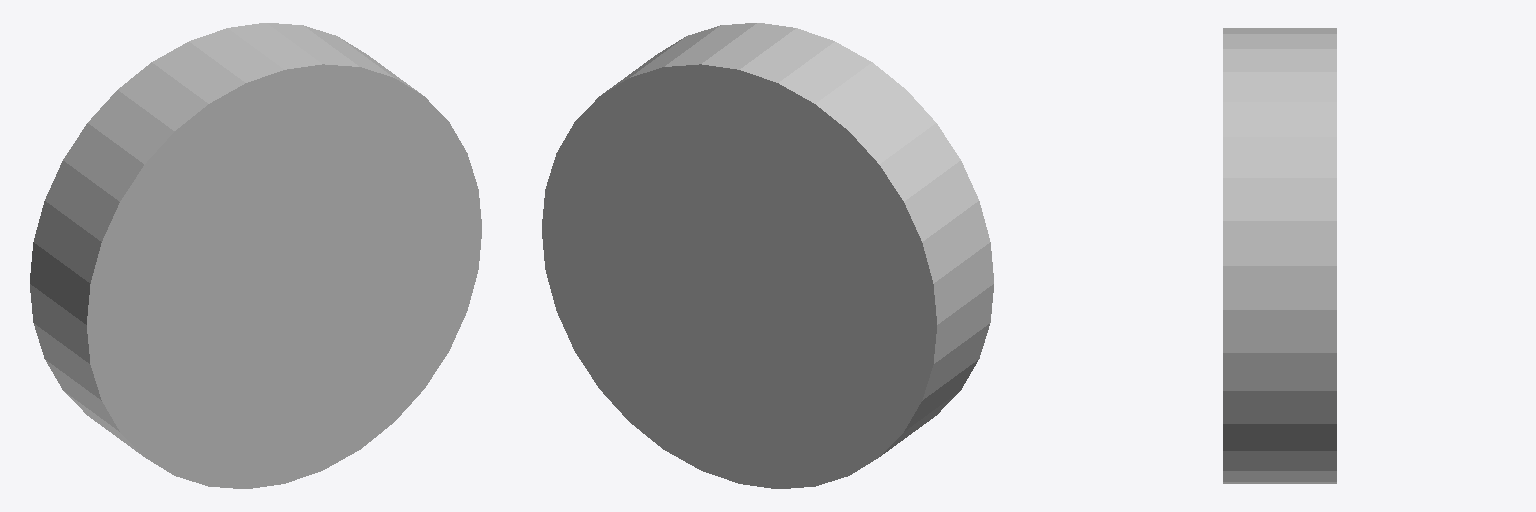
Rendered from speed_up.obj.
3 renders of one model, left to right at view 1: azimuth 30°, elevation 25°; view 2: azimuth 150°, elevation 25°; view 3: azimuth 270°, elevation 25°, orthographic.
Parts seen in each view (by area): view 1: Circle; view 2: Circle; view 3: Circle.
Part boxes in pixels (bbox=[...]): Circle: bbox=[30, 23, 481, 488]; Circle: bbox=[542, 23, 993, 488]; Circle: bbox=[1223, 28, 1336, 483].
Bounding box in the file's own units: 1 × 1 × 0.25.